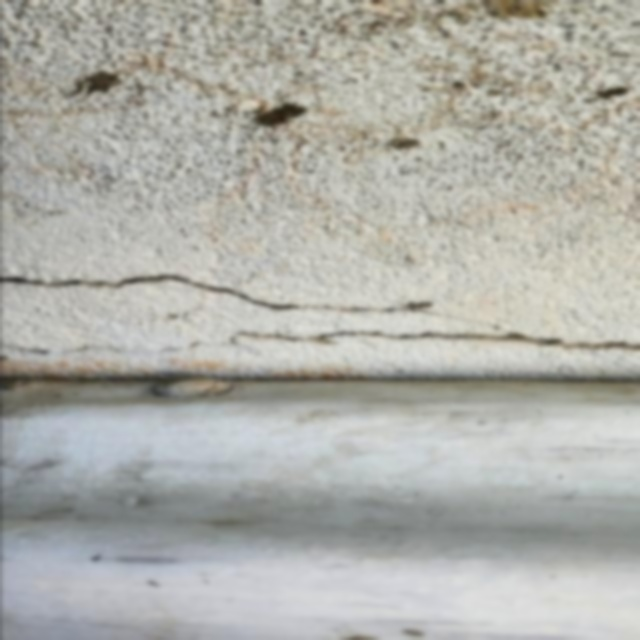SurfaceCrack: (1, 235, 640, 442)
